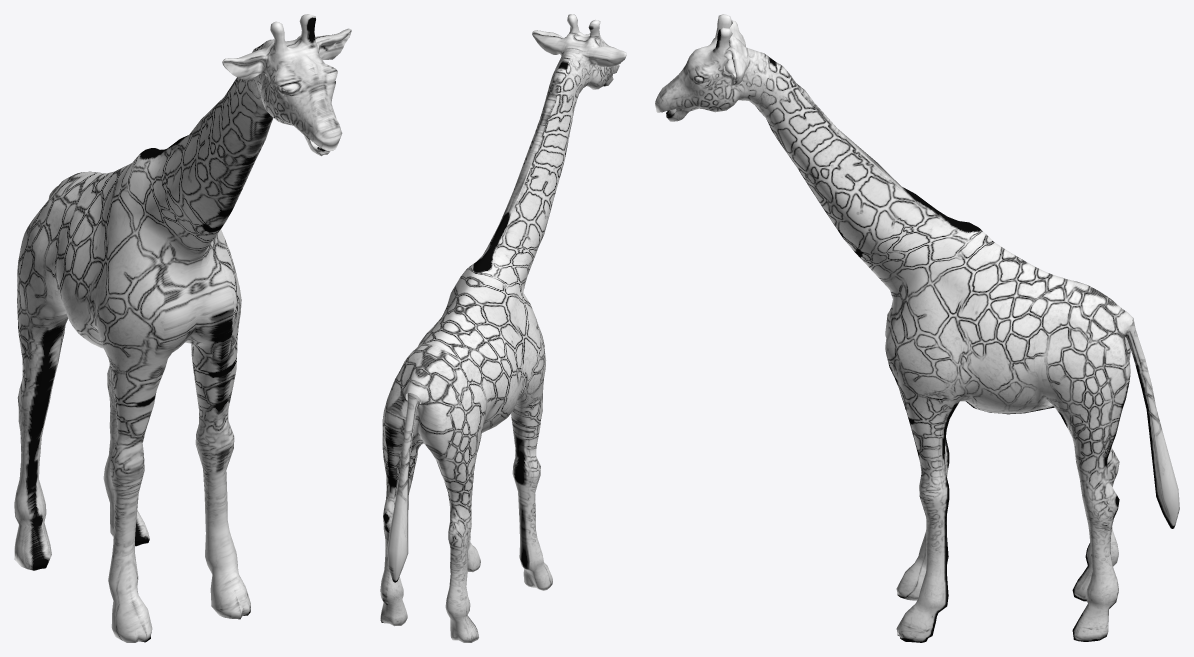
The model's file is zarafa_ar.fbx.
3 renders of one model, left to right at view 1: azimuth 30°, elevation 25°; view 2: azimuth 150°, elevation 25°; view 3: azimuth 270°, elevation 25°, orthographic. The views are drawn at different scales.
Visible parts, largest first — view 1: polySurface1; view 2: polySurface1; view 3: polySurface1.
Boxes of the visible parts, <box> form: polySurface1: <box>14,14,351,642</box>; polySurface1: <box>380,14,626,642</box>; polySurface1: <box>655,14,1179,642</box>.
Size of the model in its own units: 93.08 by 466 by 372.
1 material, 1 textured.
